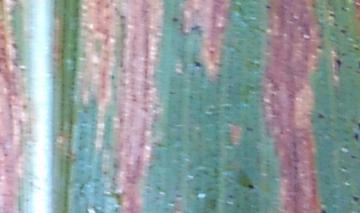tarspot: (193, 58, 204, 72), (168, 15, 182, 25), (351, 192, 360, 207), (315, 111, 327, 122), (244, 125, 258, 134), (334, 56, 343, 69), (352, 131, 360, 144), (263, 3, 273, 13), (247, 181, 256, 192), (317, 204, 328, 213), (339, 27, 348, 37)
